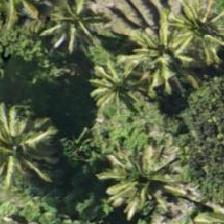coconut_tree: (91, 128, 181, 218), (118, 10, 208, 100), (75, 40, 165, 130), (31, 0, 121, 64), (0, 103, 50, 193)
